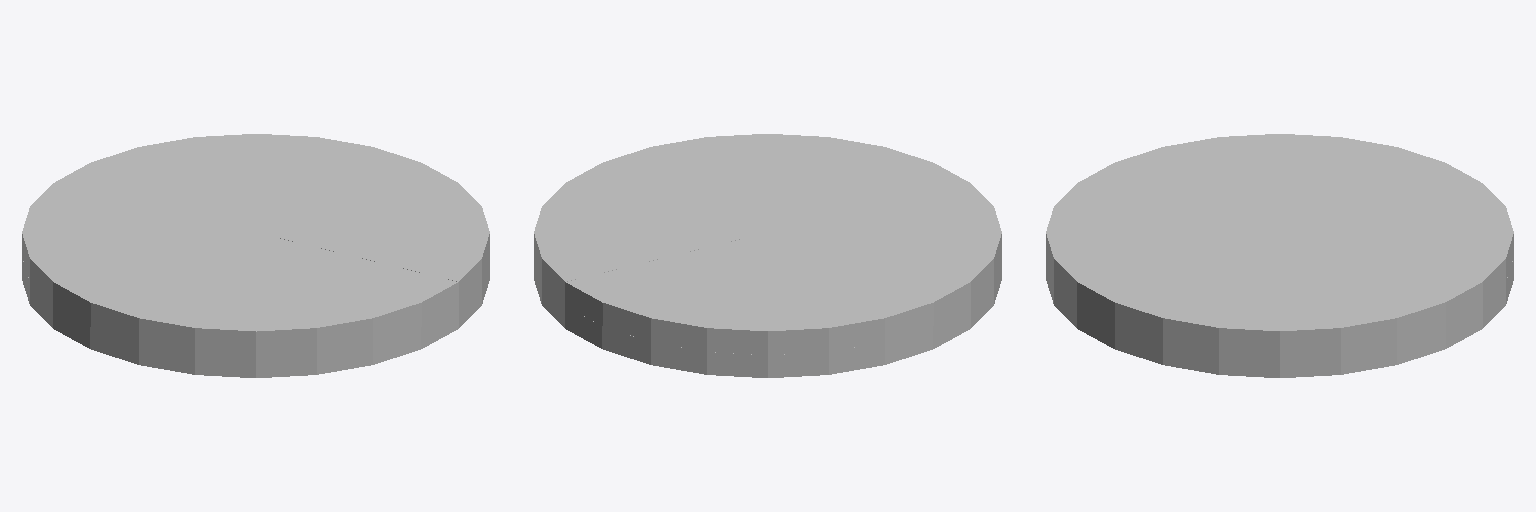
The model's file is Thermometer box.obj.
3 renders of one model, left to right at view 1: azimuth 30°, elevation 25°; view 2: azimuth 150°, elevation 25°; view 3: azimuth 270°, elevation 25°, orthographic.
Parts seen in each view (by area): view 1: pDisc3, pDisc1; view 2: pDisc3, pDisc1; view 3: pDisc3, pDisc1.
Boxes of the visible parts, box(x1,y1,x2,y2) form: pDisc3: box(22, 134, 458, 355); pDisc1: box(22, 134, 489, 377); pDisc3: box(565, 134, 1001, 354); pDisc1: box(534, 134, 1001, 377); pDisc3: box(1046, 134, 1513, 304); pDisc1: box(1046, 233, 1513, 377).
Size of the model in its own units: 2 by 0.2214 by 2.